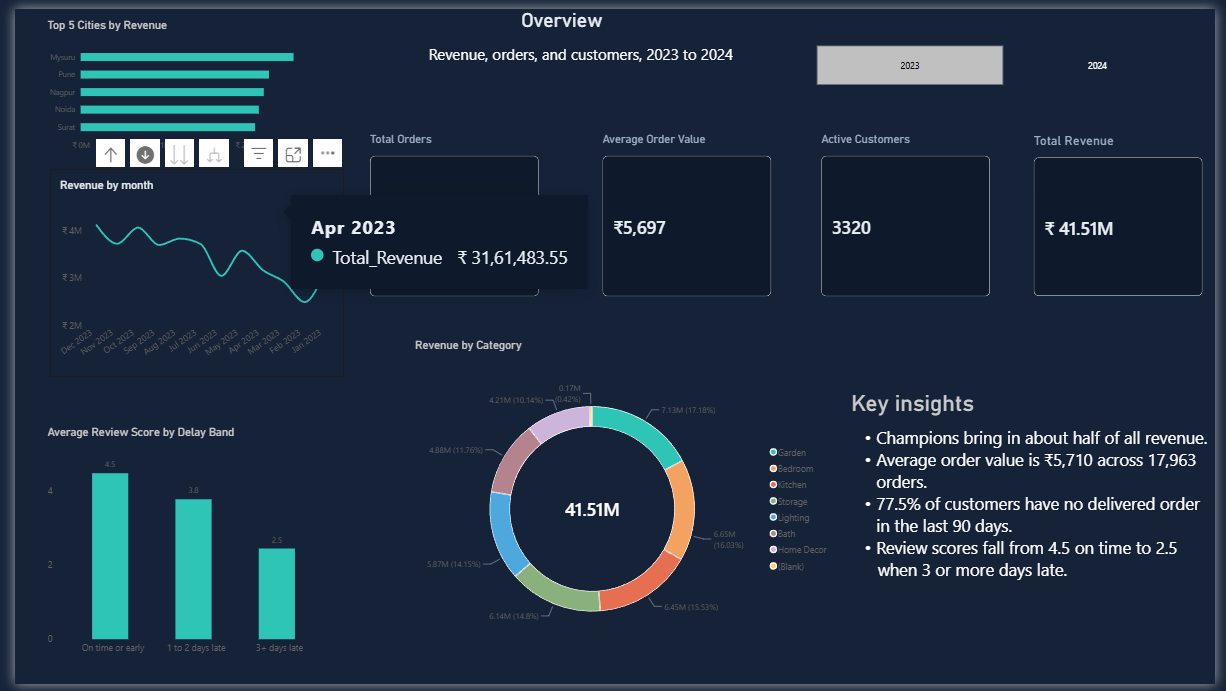

This screenshot's page, from the dashboard's own definition file:
{"tool":"powerbi","page":{"name":"Overview","canvas":[1920,1080],"ordinal":0},"visuals":[{"type":"cardVisual","title":"Total Revenue","fields":{"Data":["mart vw_order_revenue.Total_Revenue"]},"box":[36,426,270,262],"z":0},{"type":"cardVisual","title":"Total Orders","fields":{"Data":["mart vw_order_revenue.Total_Orders"]},"box":[572,428,270,262],"z":1000},{"type":"cardVisual","title":"Active Customers","fields":{"Data":["mart vw_order_revenue.Active_Customers"]},"box":[1650,426,270,262],"z":2000},{"type":"cardVisual","title":"Average Order Value","fields":{"Data":["mart vw_order_revenue.Avg_Order_Value"]},"box":[1086,426,270,262],"z":3000},{"type":"slicer","fields":{"Values":["Date.Year"]},"box":[0,70,270,262],"z":4000},{"type":"actionButton","box":[0,0,100,40],"z":5000}]}

Visuals, with their boxes in screenshot pixels (x1, y1, x2, y2), scaled from the page's 1920x1080 canvas onto the 1226x691 screenshot:
"Total Revenue" cardVisual: detection(23, 273, 195, 440)
"Total Orders" cardVisual: detection(365, 274, 538, 441)
"Active Customers" cardVisual: detection(1054, 273, 1225, 440)
"Average Order Value" cardVisual: detection(693, 273, 866, 440)
slicer - Date.Year: detection(0, 45, 172, 212)
actionButton: detection(0, 0, 64, 26)
